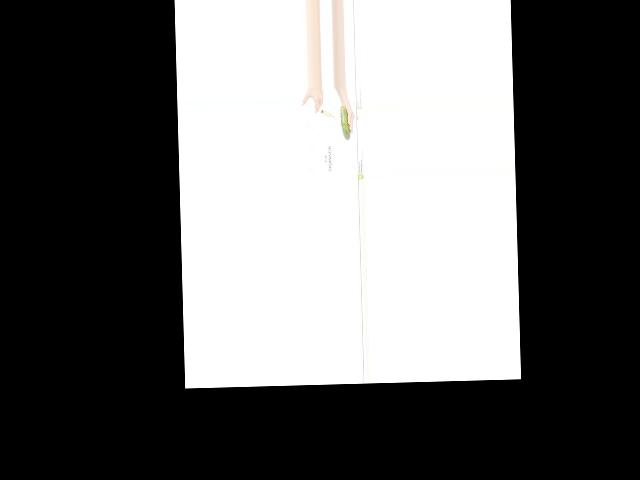cucumber: (340, 105, 350, 139)
